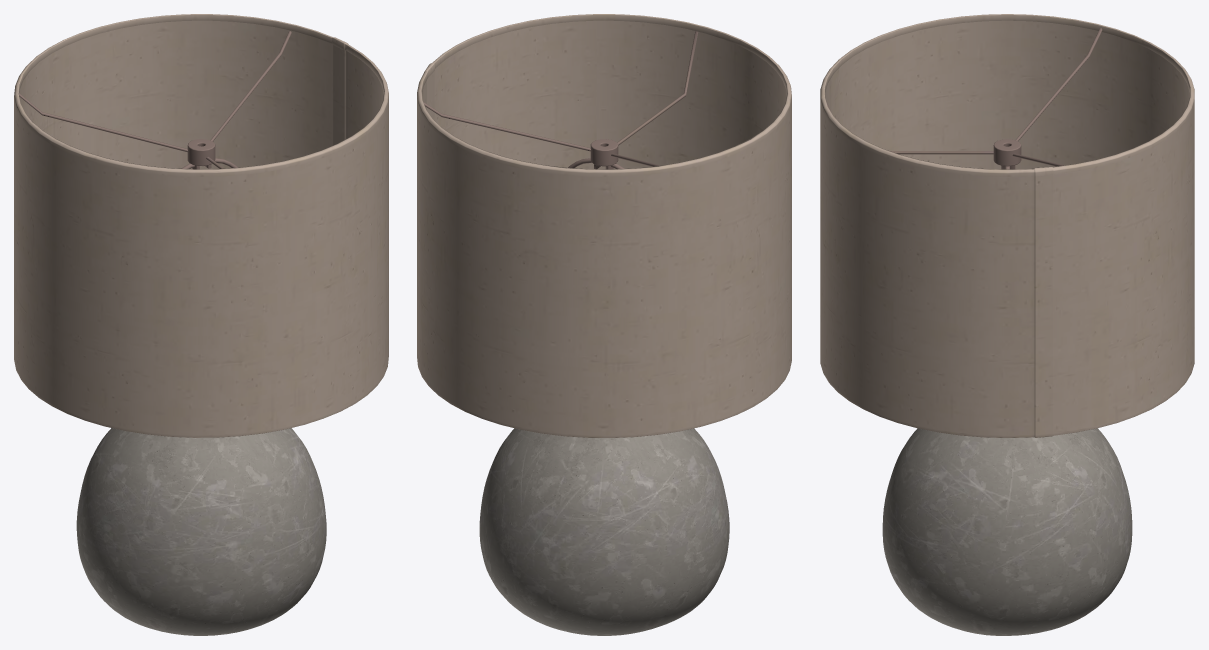
File: B073755HVV.glb
3 views of the same model, side by side, from view 1: azimuth 30°, elevation 25°; view 2: azimuth 150°, elevation 25°; view 3: azimuth 270°, elevation 25° (orthographic).
Parts seen in each view (by area): view 1: RootNode; view 2: RootNode; view 3: RootNode.
Part boxes in pixels (left/top/right/bottom): RootNode: left=14, top=14, right=388, bottom=635; RootNode: left=417, top=14, right=791, bottom=635; RootNode: left=820, top=14, right=1194, bottom=635.
Bounding box in the file's own units: 0.2691 × 0.4092 × 0.2685.
Materials: 1 (1 with a texture image).
